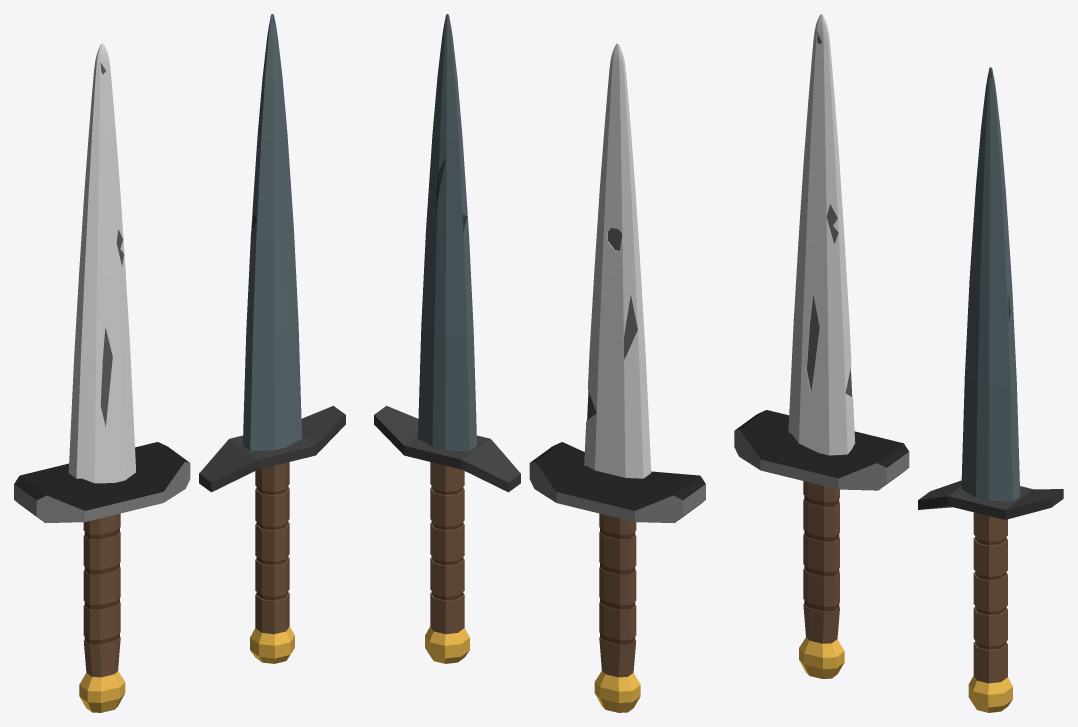
File: Armas_inimigos.fbx
3 views of the same model, side by side, from view 1: azimuth 30°, elevation 25°; view 2: azimuth 150°, elevation 25°; view 3: azimuth 330°, elevation 25° (orthographic).
Parts seen in each view (by area): view 1: Cube, Cube.001; view 2: Cube, Cube.001; view 3: Cube, Cube.001.
Boxes of the visible parts, x1=… form: Cube: x1=14, y1=43, x2=190, y2=712; Cube.001: x1=199, y1=14, x2=345, y2=663; Cube: x1=529, y1=43, x2=705, y2=712; Cube.001: x1=374, y1=14, x2=520, y2=663; Cube: x1=734, y1=14, x2=909, y2=678; Cube.001: x1=918, y1=67, x2=1063, y2=712.
Size of the model in its own units: 61.39 by 124 by 15.
